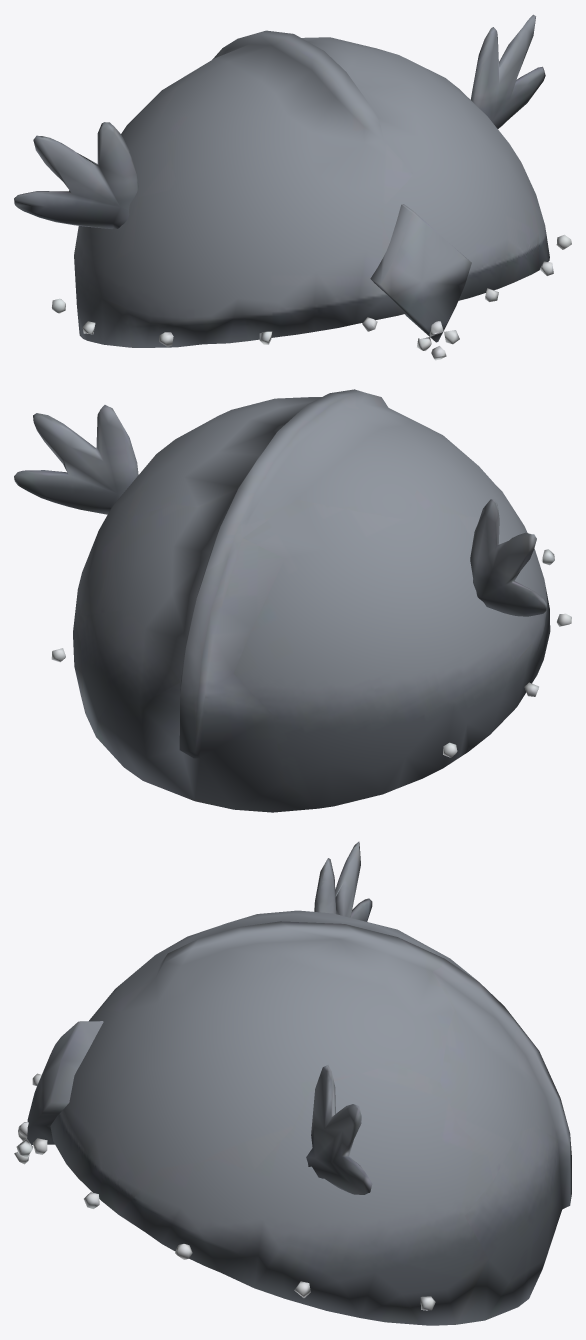
Rendered from shield-maiden-helm.glb.
3 views of the same model, one above another, from view 1: azimuth 30°, elevation 25°; view 2: azimuth 150°, elevation 25°; view 3: azimuth 270°, elevation 25° (orthographic). The views are drawn at different scales.
Visible parts, largest first — view 1: helm; view 2: helm; view 3: helm.
Part boxes in pixels (bbox=[...]): helm: bbox=[14, 14, 571, 360]; helm: bbox=[14, 389, 571, 812]; helm: bbox=[14, 841, 571, 1325].
Size of the model in its own units: 0.6312 by 0.3543 by 0.5248.
1 material, 1 textured.
